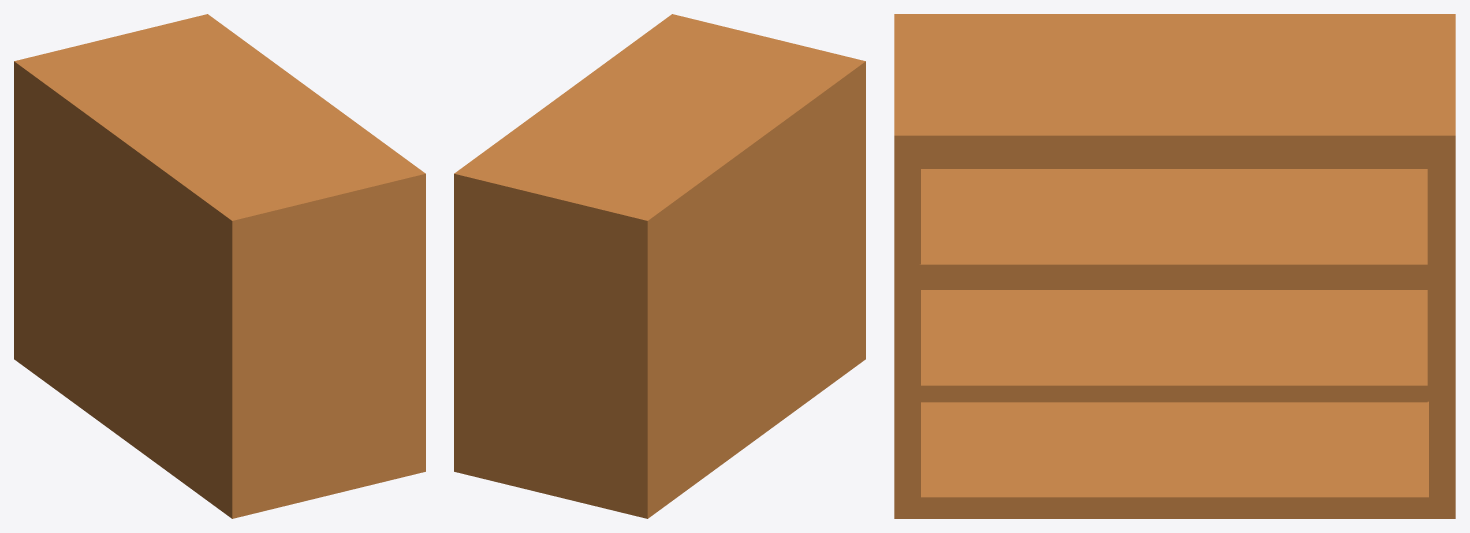
The model's file is Dolap3.fbx.
The picture shows the model from 3 angles, left to right: view 1: azimuth 30°, elevation 25°; view 2: azimuth 150°, elevation 25°; view 3: azimuth 270°, elevation 25°; orthographic projection. The views are drawn at different scales.
Parts seen in each view (by area): view 1: Cube.001; view 2: Cube.001; view 3: Cube.001.
Part boxes in pixels (left/top/right/bottom): Cube.001: left=14, top=14, right=425, bottom=518; Cube.001: left=454, top=14, right=865, bottom=518; Cube.001: left=894, top=14, right=1455, bottom=518.
Bounding box in the file's own units: 200 × 294 × 390.
